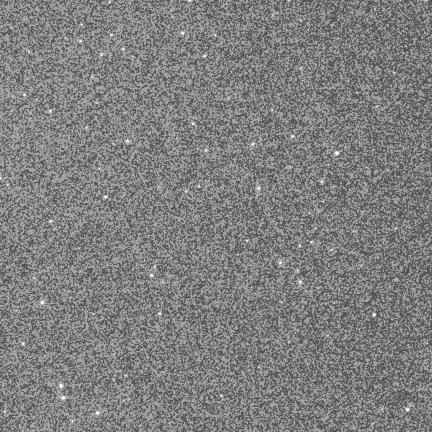blob: (104, 195, 108, 200), (373, 313, 377, 318), (203, 55, 208, 59), (150, 274, 154, 278), (126, 140, 130, 144), (257, 187, 261, 191), (291, 135, 295, 139), (181, 32, 185, 36), (158, 313, 162, 316), (100, 54, 104, 57), (205, 149, 208, 153), (60, 384, 63, 388), (335, 152, 339, 155), (96, 411, 99, 415), (192, 123, 195, 126), (406, 408, 409, 411), (50, 220, 53, 223), (41, 301, 44, 304), (252, 143, 255, 146), (24, 94, 27, 97), (246, 240, 249, 243), (279, 262, 282, 265), (22, 343, 25, 346), (111, 34, 114, 37), (62, 396, 65, 399), (50, 110, 52, 114), (80, 40, 82, 43), (123, 48, 125, 51), (299, 281, 302, 283)
